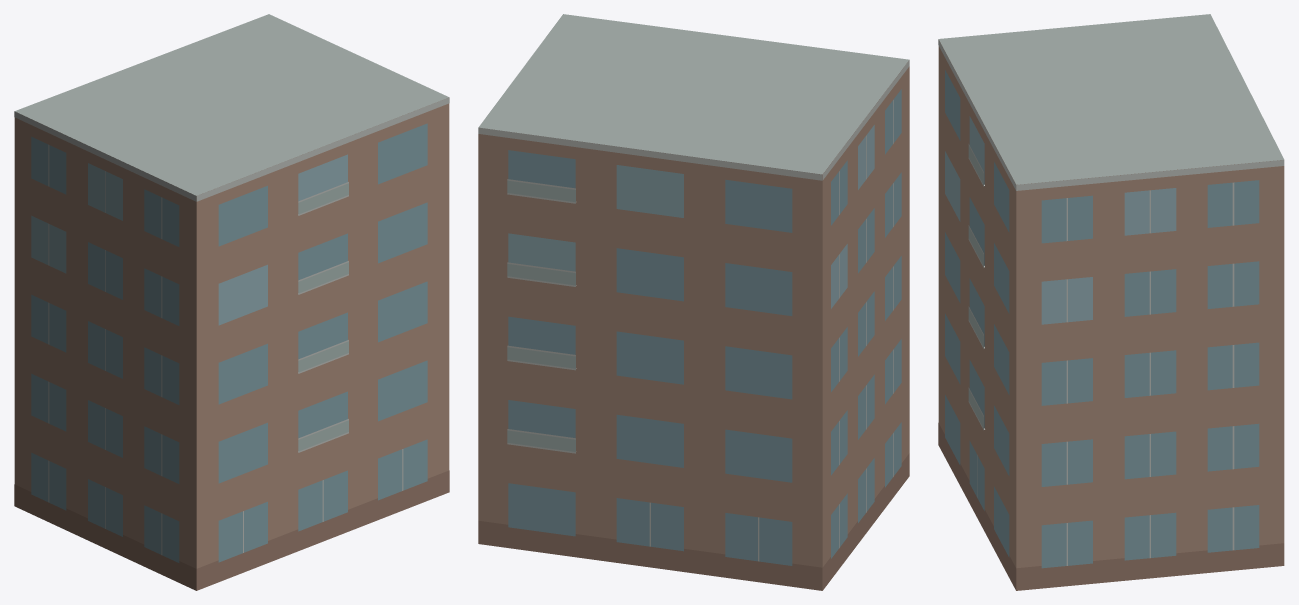
File: survey-upis-32951674.glb
The picture shows the model from 3 angles, left to right: view 1: azimuth 30°, elevation 25°; view 2: azimuth 150°, elevation 25°; view 3: azimuth 270°, elevation 25°; orthographic projection. The views are drawn at different scales.
Parts seen in each view (by area): view 1: survey-upis-32951674.tmp; view 2: survey-upis-32951674.tmp; view 3: survey-upis-32951674.tmp.
Boxes of the visible parts, x1,y1,x2,y2 form: survey-upis-32951674.tmp: (14,14,449,590); survey-upis-32951674.tmp: (478,14,909,590); survey-upis-32951674.tmp: (938,14,1284,590).
Size of the model in its own units: 14.54 by 16.1 by 12.44.
